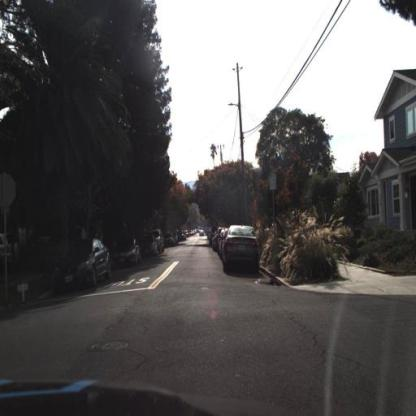car: (55, 239, 113, 288), (222, 225, 260, 274), (111, 236, 142, 266), (2, 232, 20, 274), (142, 233, 158, 257), (155, 229, 165, 253)
